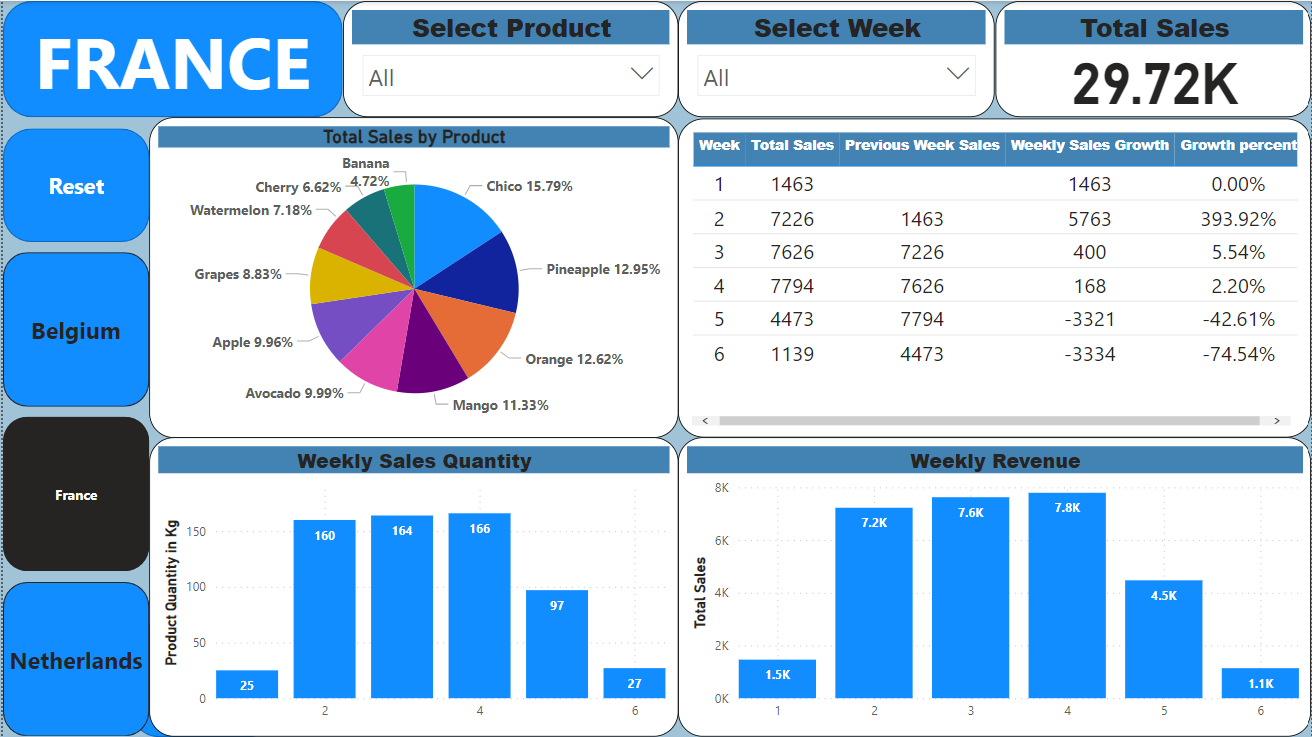

This screenshot's page, from the dashboard's own definition file:
{"tool":"powerbi","page":{"name":"France","canvas":[1280,720],"ordinal":1},"visuals":[{"type":"shape","box":[0,0,332.1,113.6],"z":0},{"type":"shape","title":"Clear","box":[124.7,608.6,143.2,111.1],"z":1000},{"type":"pageNavigator","box":[0,245.7,143.2,474.1],"z":2000},{"type":"slicer","title":"Select Week","fields":{"Values":["France.Week_No_France"]},"box":[660.5,0,309.9,113.6],"z":3000},{"type":"card","title":"Total Sales ","fields":{"Values":["France.TotalSales_France"]},"box":[970.1,0,309.9,113.6],"z":4000},{"type":"pieChart","title":"Total Sales by Product","fields":{"Category":["France.product_name"],"Y":["France.TotalSales_France"]},"box":[143.2,113.6,517.3,313.6],"z":5000},{"type":"tableEx","fields":{"Values":["France.Week_No_France","France.TotalSales_France","France.Previous_week_France","France.WOW_France","France.% Growth_France"]},"box":[660.2,114.8,619.8,312.3],"z":6000},{"type":"clusteredColumnChart","title":"Weekly Sales Quantity ","fields":{"Category":["France.Week_No_France"],"Y":["Sum(France.weight_kg)"]},"box":[143.2,427.2,517.3,292.6],"z":7000},{"type":"columnChart","title":"Weekly Revenue","fields":{"Category":["France.Week_No_France"],"Y":["France.TotalSales_France"]},"box":[660.2,427.2,619.8,292.6],"z":8000},{"type":"shape","title":"Clear","box":[0,124.7,143.2,111.1],"z":9000},{"type":"slicer","title":"Select Product","fields":{"Values":["France.product_name"]},"box":[332.1,0,328.4,113.6],"z":10000}]}

Visuals, with their boxes in screenshot pixels (x1, y1, x2, y2), scaled from the page's 1280x720 canvas onto the 1312x737 screenshot:
shape: pyautogui.locateOnScreen(0, 0, 340, 116)
"Clear" shape: pyautogui.locateOnScreen(128, 623, 275, 736)
pageNavigator: pyautogui.locateOnScreen(0, 252, 147, 736)
"Select Week" slicer: pyautogui.locateOnScreen(677, 0, 995, 116)
"Total Sales " card: pyautogui.locateOnScreen(994, 0, 1311, 116)
"Total Sales by Product" pieChart: pyautogui.locateOnScreen(147, 116, 677, 437)
tableEx - France.Week_No_France x France.TotalSales_France: pyautogui.locateOnScreen(677, 118, 1311, 437)
"Weekly Sales Quantity " clusteredColumnChart: pyautogui.locateOnScreen(147, 437, 677, 736)
"Weekly Revenue" columnChart: pyautogui.locateOnScreen(677, 437, 1311, 736)
"Clear" shape: pyautogui.locateOnScreen(0, 128, 147, 241)
"Select Product" slicer: pyautogui.locateOnScreen(340, 0, 677, 116)
